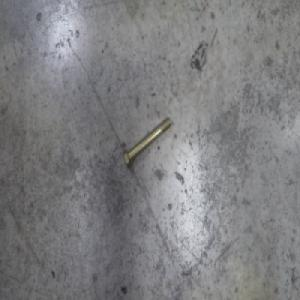Bolt: (121, 115, 171, 172)
